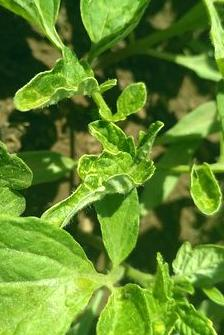Tomato leaf mosaic virus: (40, 118, 163, 227), (0, 216, 97, 335), (0, 59, 118, 117), (78, 170, 149, 264), (77, 0, 150, 65), (90, 280, 154, 335), (171, 239, 224, 290), (180, 160, 224, 221), (163, 299, 223, 335)
